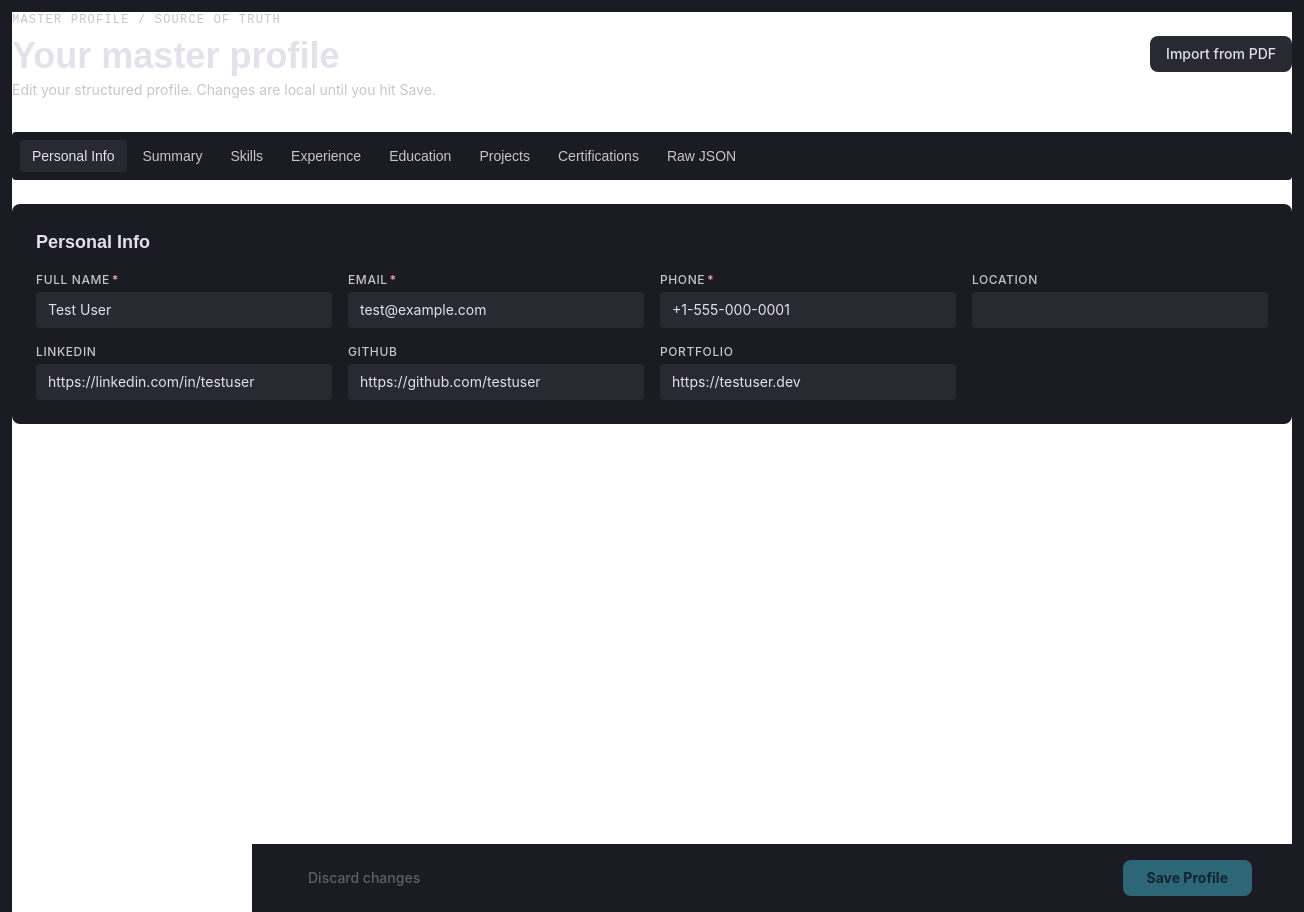
Test case: ProfilePage › renders Summary tab content
Step 1. Click the tab "Summary" → click(172, 156), box top-left (130, 140), bottom-right (214, 172)
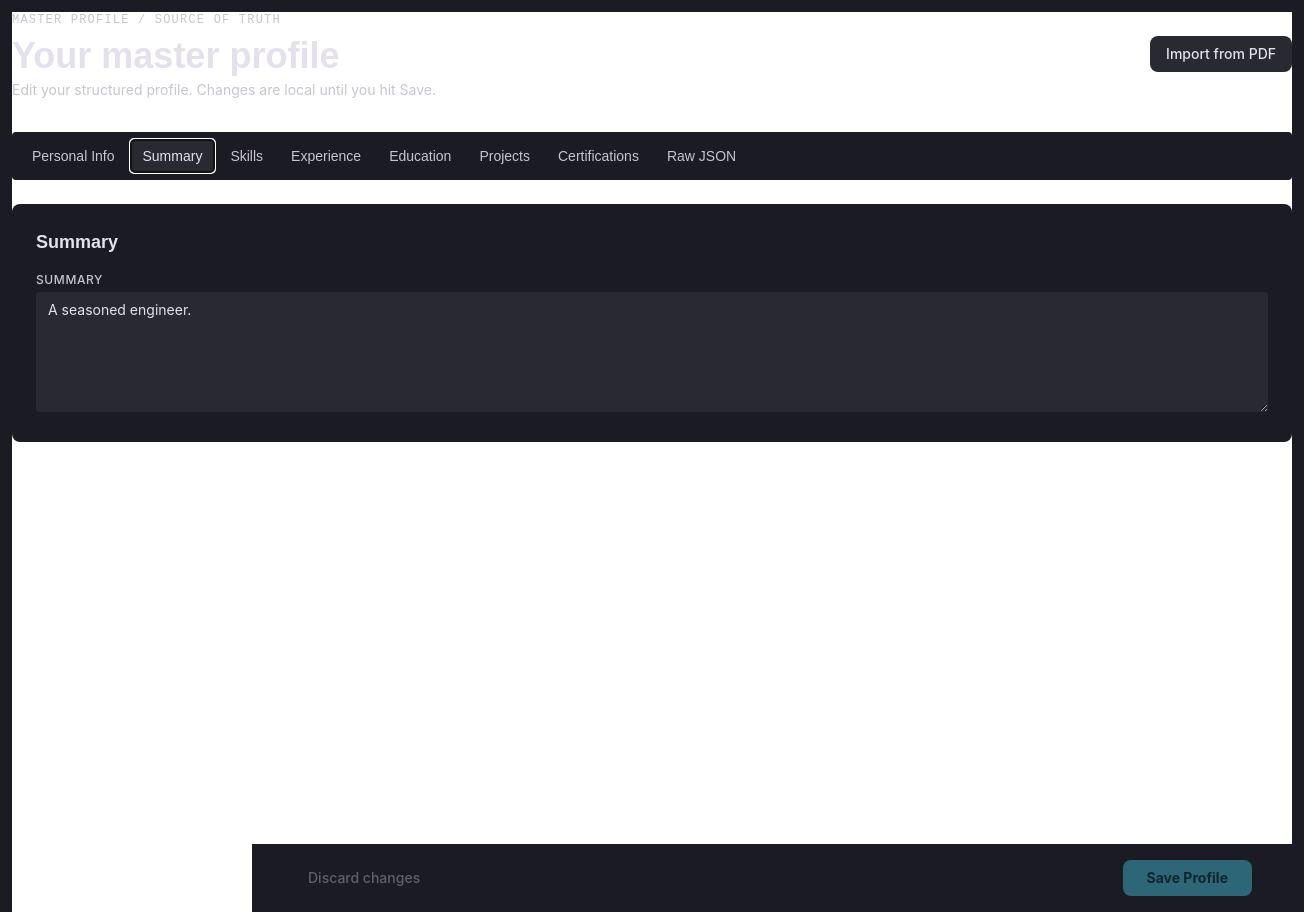
Expected: the panel labelled "Summary Summary" is shown, top-left (12, 204), bottom-right (1292, 442)
